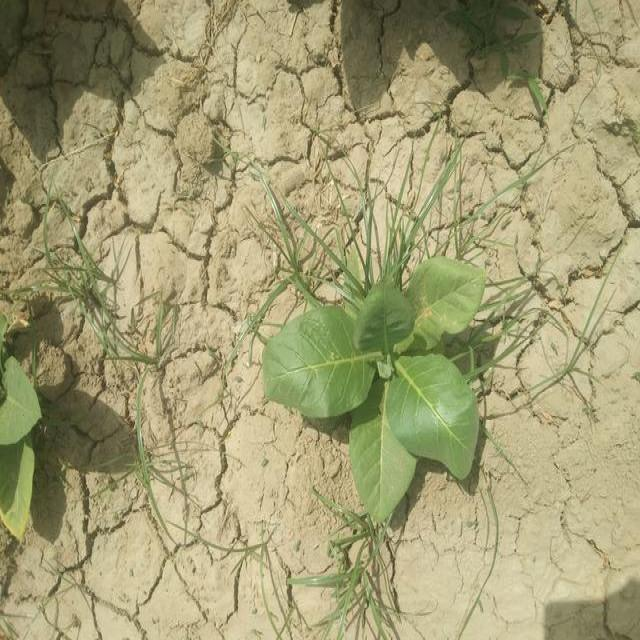crop: (263, 253, 489, 524)
